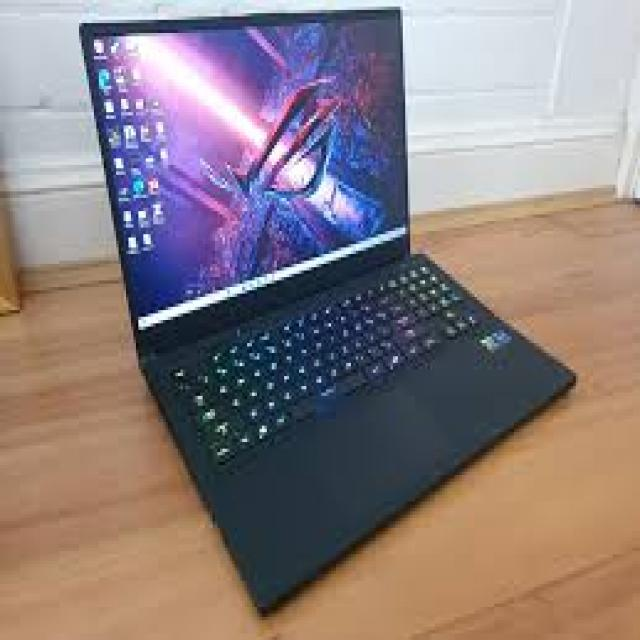others: (54, 3, 618, 610)
